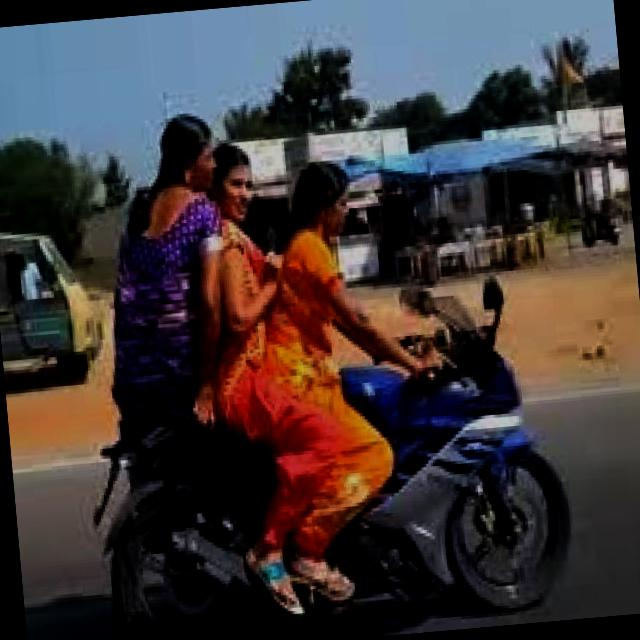motorcycle: (67, 268, 588, 640)
person: (252, 150, 422, 527), (94, 101, 264, 446), (197, 138, 323, 460)
